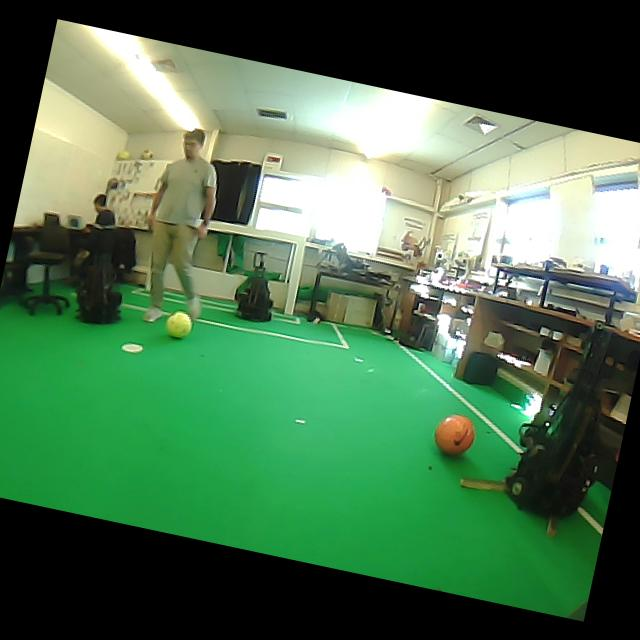ball: (434, 414, 474, 454), (165, 311, 191, 337), (115, 149, 130, 160), (141, 150, 151, 159)
goal: (283, 236, 305, 314)
robot: (505, 324, 640, 517), (76, 264, 122, 323), (235, 251, 272, 321)
